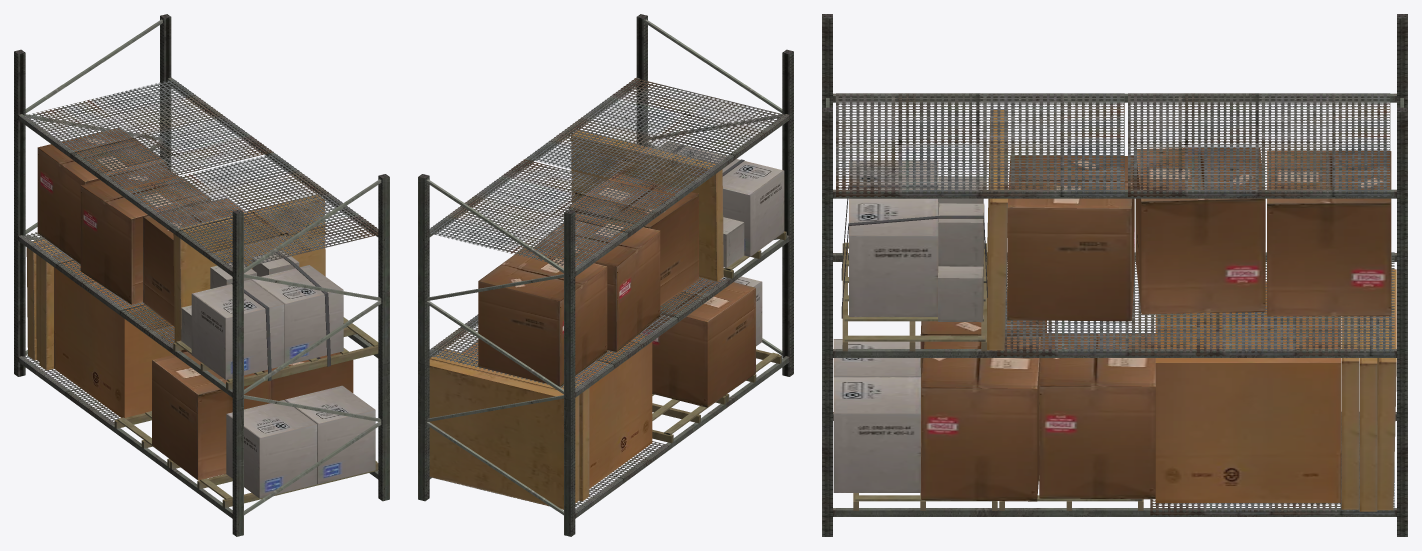
The model's file is warehouse_shelf001.glb.
3 renders of one model, left to right at view 1: azimuth 30°, elevation 25°; view 2: azimuth 150°, elevation 25°; view 3: azimuth 270°, elevation 25°, orthographic. The views are drawn at different scales.
Parts seen in each view (by area): view 1: 0_warehouse_shelves; view 2: 0_warehouse_shelves; view 3: 0_warehouse_shelves.
Boxes of the visible parts, x1,y1,x2,y2 form: 0_warehouse_shelves: (14, 14, 389, 536); 0_warehouse_shelves: (418, 14, 793, 536); 0_warehouse_shelves: (822, 14, 1407, 536).
Size of the model in its own units: 1.66 by 3.25 by 4.06.
Materials: 1 (1 with a texture image).
